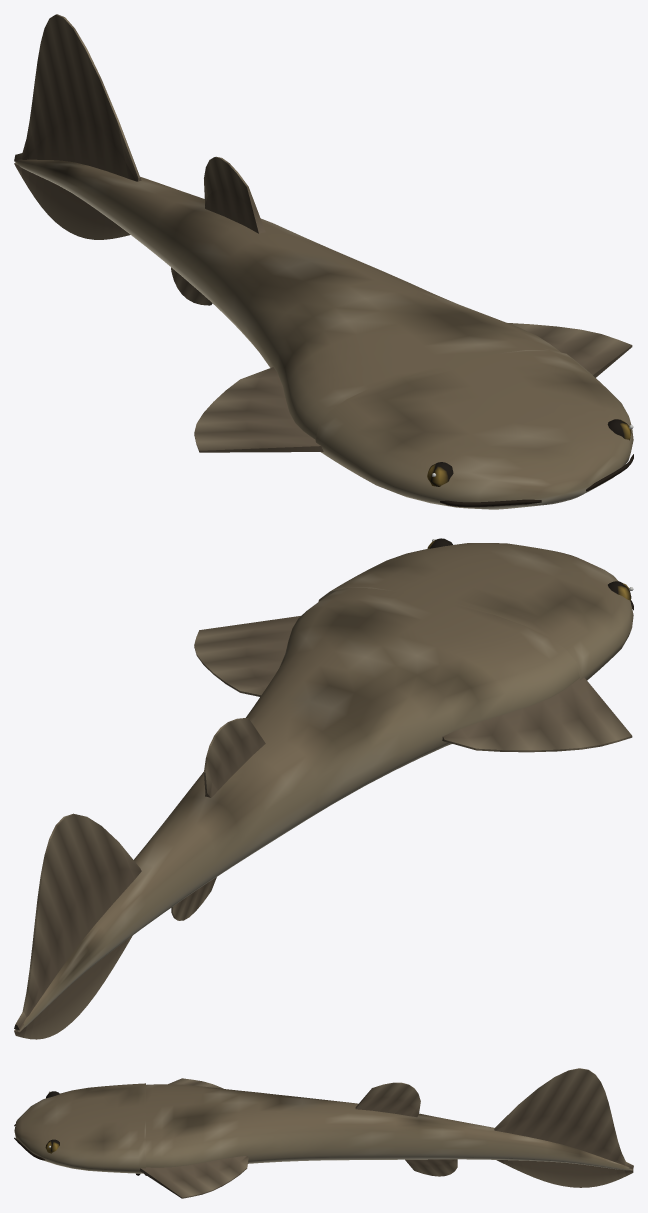
File: Turinia.fbx
3 renders of one model, top to bottom at view 1: azimuth 30°, elevation 25°; view 2: azimuth 150°, elevation 25°; view 3: azimuth 270°, elevation 25°, orthographic. The views are drawn at different scales.
Parts seen in each view (by area): view 1: Turinia; view 2: Turinia; view 3: Turinia.
Part boxes in pixels (<box>): Turinia: <box>14,14,633,509</box>; Turinia: <box>14,538,633,1039</box>; Turinia: <box>14,1068,633,1198</box>.
Bounding box in the file's own units: 0.7312 × 0.3401 × 1.6.
